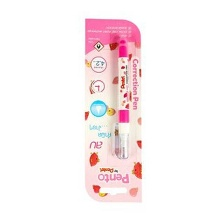book: (83, 17, 144, 204)
correction_fluid: (111, 33, 133, 164)
